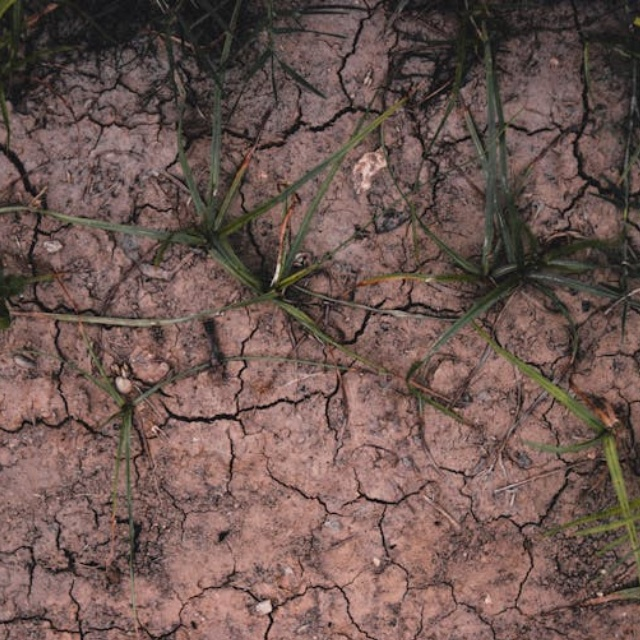细微裂纹: (242, 444, 502, 640), (0, 371, 363, 462), (0, 568, 284, 640)
